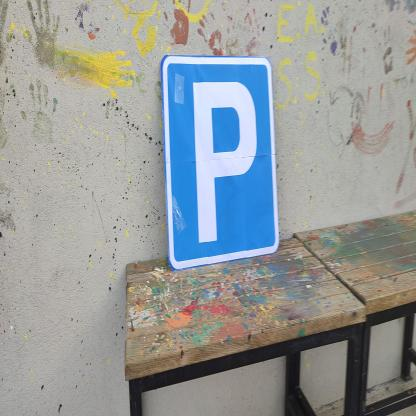Parking-Sign: (159, 56, 282, 271)
